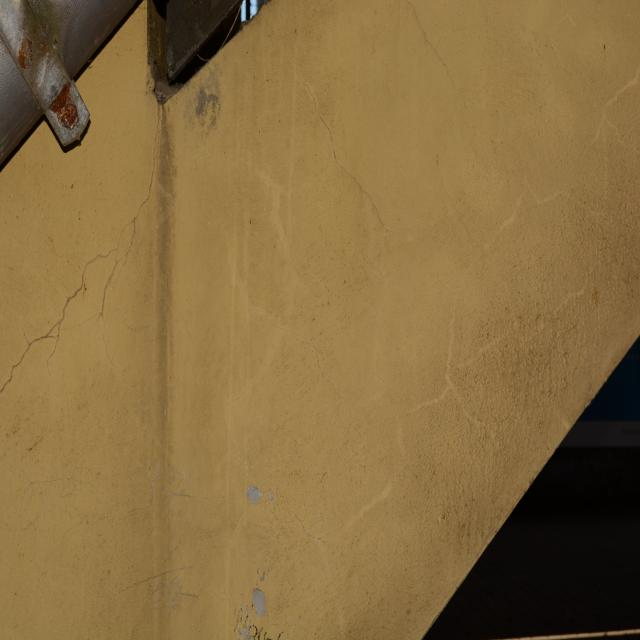corrosion: (45, 84, 90, 144), (14, 44, 40, 81)
